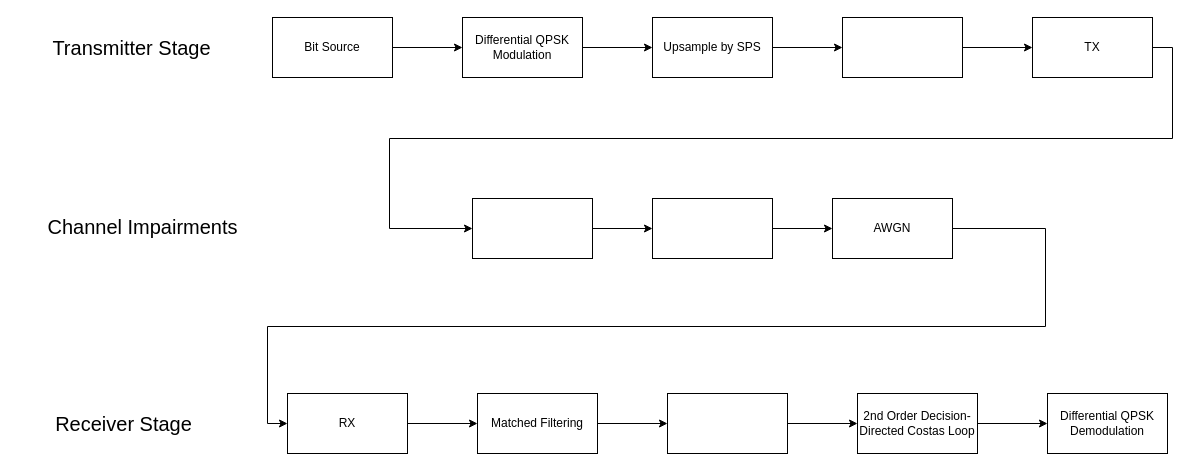
The diagram is 1198 pixels wide and 471 high, and some of its shapes have lost their labels. The shapes that lost their labels are listed below. From the top down, each one's box as (x1, y1, x2, y2) in pixels, then its label:
(842, 16, 962, 78): Root Raised Cosine (RRC) Pulse Filtering
(472, 198, 592, 258): Carrier Frequency Offset
(652, 198, 772, 258): Fractional Timing Offset
(666, 392, 788, 454): Delay Locked Loop using Gardner TED
